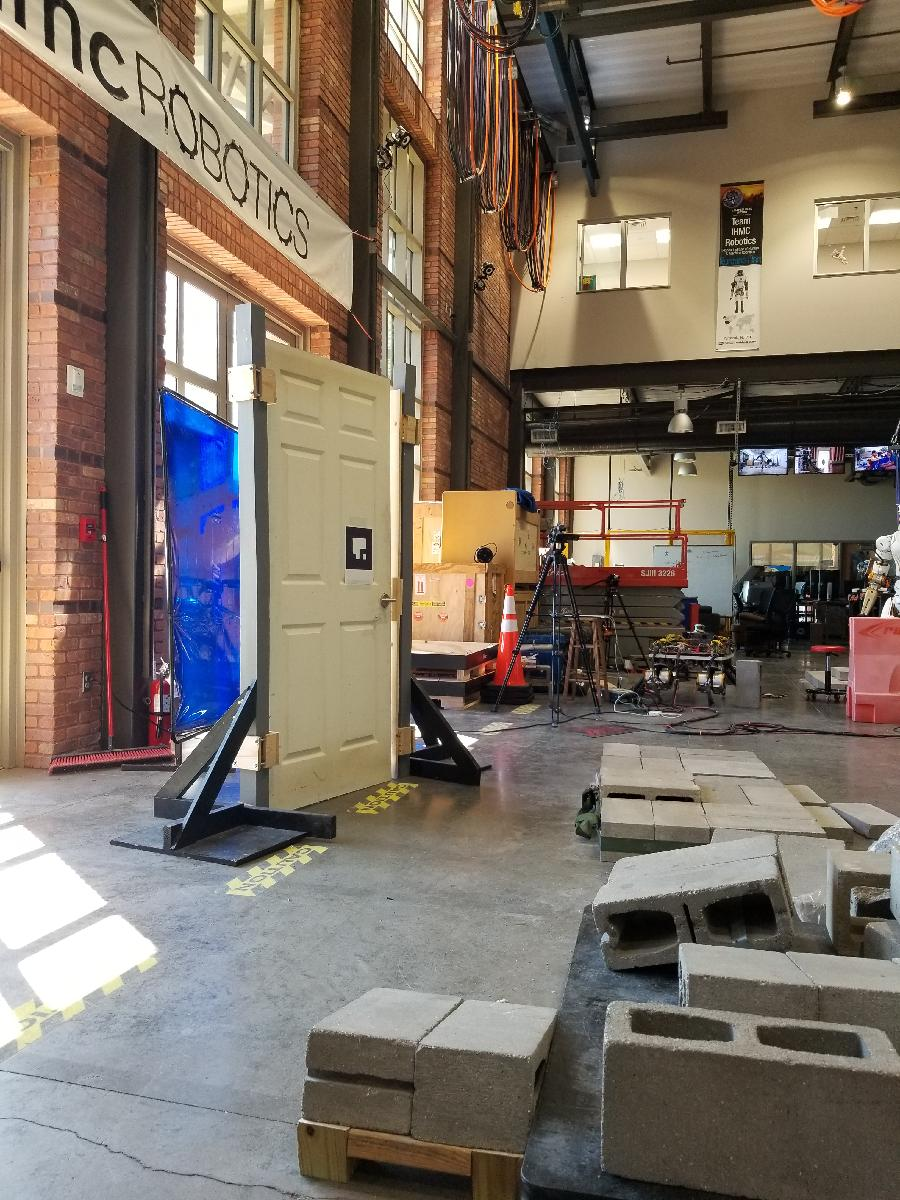door: (258, 334, 394, 817)
doorHandle: (377, 593, 397, 616)
